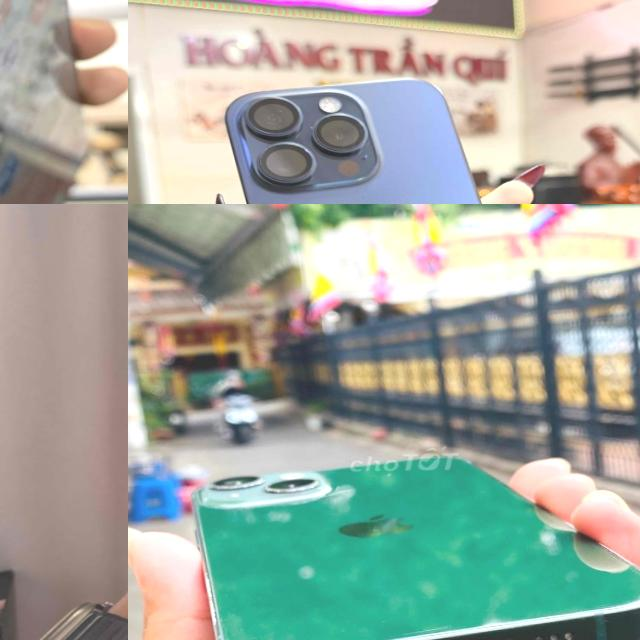scratch: (566, 517, 640, 625), (198, 562, 286, 640)
